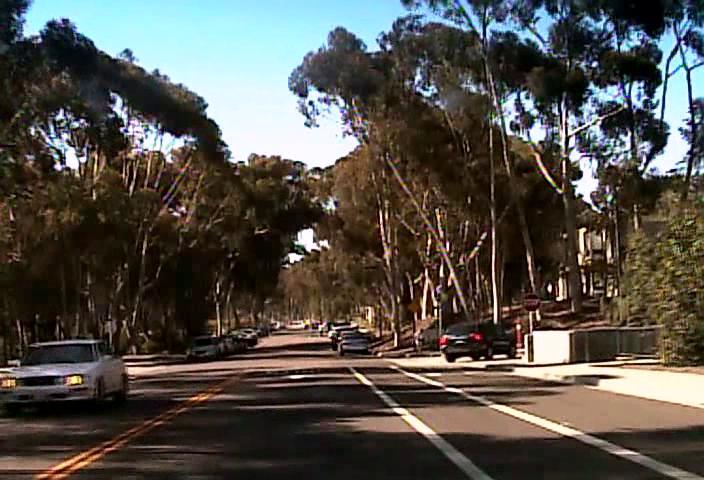stop: (521, 292, 541, 311)
